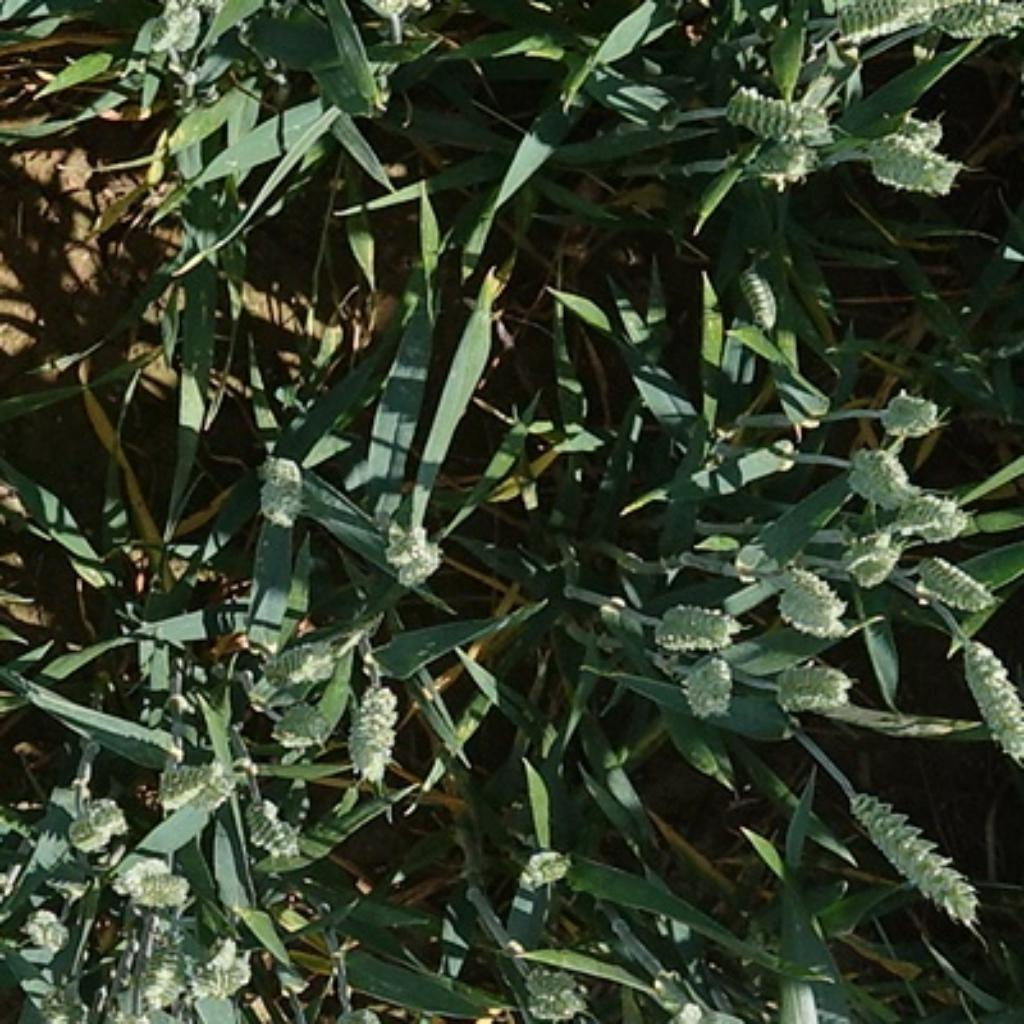0-0: (840, 789, 989, 931), (854, 111, 969, 203), (951, 628, 1024, 768), (117, 911, 209, 1013), (709, 79, 834, 151), (248, 622, 358, 696), (832, 432, 926, 517), (337, 675, 407, 783), (151, 747, 243, 819), (906, 547, 1003, 614), (230, 780, 307, 862), (373, 509, 448, 591), (768, 558, 847, 634), (762, 655, 860, 716), (647, 593, 739, 655), (512, 949, 591, 1021), (248, 445, 317, 527), (181, 934, 256, 1008), (890, 486, 983, 545), (836, 0, 944, 49), (747, 130, 832, 192), (51, 788, 130, 852), (670, 652, 739, 719), (107, 855, 192, 906), (509, 834, 576, 893), (926, 0, 1024, 40), (732, 266, 784, 335), (847, 527, 906, 586), (144, 6, 216, 54), (872, 391, 949, 435), (20, 903, 78, 961), (25, 983, 104, 1024), (271, 698, 332, 747)
